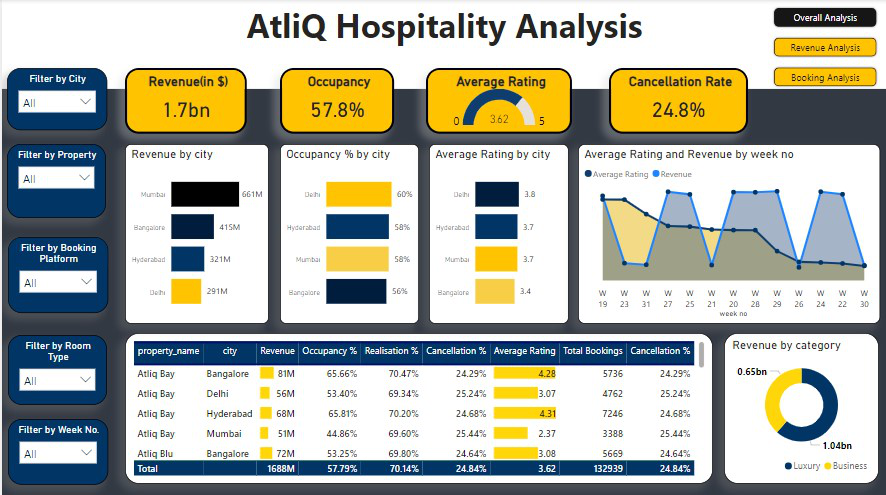

Layout of this report page (visuals, bound fields, positions):
{"tool":"powerbi","page":{"name":"Overall Analysis","canvas":[1280,720],"ordinal":0},"visuals":[{"type":"tableEx","fields":{"Values":["dim_hotels.property_name","dim_hotels.city","BaseMeasures.Revenue","BaseMeasures.Occupancy %","BaseMeasures.Realisation %","BaseMeasures.Cancellation %","BaseMeasures.Average Rating","BaseMeasures.Total Bookings","BaseMeasures.Cancellation %"]},"box":[177.8,482.9,850.1,218.3],"z":0},{"type":"donutChart","fields":{"Category":["dim_hotels.category"],"Y":["BaseMeasures.Revenue"]},"box":[1043.9,482.9,224.1,218.3],"z":1000},{"type":"textbox","box":[0,0,1279.5,130.1],"z":2000},{"type":"slicer","title":"Filter by Booking Platform","fields":{"Values":["fact_bookings.booking_platform"]},"box":[8.6,344,144.6,109.9],"z":2000,"group":"g1"},{"type":"card","title":"Revenue(in $)","fields":{"Values":["BaseMeasures.Revenue"]},"box":[177.8,99.8,176.4,95.4],"z":3000},{"type":"card","title":"Cancellation Rate","fields":{"Values":["BaseMeasures.Cancellation %"]},"box":[877.6,99.8,201,95.4],"z":4000},{"type":"slicer","title":"Filter by Room Type","fields":{"Values":["dim_rooms.room_class"]},"box":[8.2,485.9,143.2,101.3],"z":4000,"group":"g1"},{"type":"card","title":"Occupancy","fields":{"Values":["BaseMeasures.Occupancy %"]},"box":[401.9,99.8,164.8,95.4],"z":5000},{"type":"gauge","fields":{"Y":["BaseMeasures.Average Rating"]},"box":[613,99.8,211.1,95.4],"z":6000},{"type":"slicer","title":"Filter by Week No.","fields":{"Values":["dim_date.week no"]},"box":[8.6,606.6,144.6,94.6],"z":6000,"group":"g1"},{"type":"barChart","fields":{"Y":["BaseMeasures.Revenue"],"Category":["dim_hotels.city"]},"box":[177.8,209.6,208.2,260.2],"z":7000},{"type":"slicer","title":"Filter by City","fields":{"Values":["dim_hotels.city"]},"box":[7.2,99.8,144.6,90.1],"z":8000,"group":"g1"},{"type":"barChart","fields":{"Category":["dim_hotels.city"],"Y":["BaseMeasures.Occupancy %"]},"box":[401.9,209.6,201,260.2],"z":8000},{"type":"barChart","fields":{"Category":["dim_hotels.city"],"Y":["BaseMeasures.Average Rating"]},"box":[617.3,209.6,202.4,260.2],"z":9000},{"type":"slicer","title":"Filter by Property ","fields":{"Values":["dim_hotels.property_name"]},"box":[7.2,209.7,143.1,106.9],"z":10000,"group":"g1"},{"type":"areaChart","fields":{"Category":["dim_date.week no"],"Y2":["BaseMeasures.Revenue"],"Y":["BaseMeasures.Average Rating"]},"box":[832.8,209.6,436.6,260.2],"z":10000},{"type":"group","id":"g1","title":"Group 1","box":[7.2,99.8,146,601.4],"z":11000},{"type":"pageNavigator","box":[1113.3,10.1,154.7,120],"z":12000}]}

Visuals, with their boxes in screenshot pixels (x1, y1, x2, y2), scaled from the page's 1280x720 canvas onto the 886x495 screenshot:
tableEx - dim_hotels.property_name x dim_hotels.city: [x1=123, y1=332, x2=711, y2=482]
donutChart - dim_hotels.category x BaseMeasures.Revenue: [x1=723, y1=332, x2=878, y2=482]
textbox: [x1=0, y1=0, x2=885, y2=89]
"Filter by Booking Platform" slicer: [x1=6, y1=236, x2=106, y2=312]
"Revenue(in $)" card: [x1=123, y1=69, x2=245, y2=134]
"Cancellation Rate" card: [x1=607, y1=69, x2=747, y2=134]
"Filter by Room Type" slicer: [x1=6, y1=334, x2=105, y2=404]
"Occupancy" card: [x1=278, y1=69, x2=392, y2=134]
gauge - BaseMeasures.Average Rating: [x1=424, y1=69, x2=570, y2=134]
"Filter by Week No." slicer: [x1=6, y1=417, x2=106, y2=482]
barChart - BaseMeasures.Revenue x dim_hotels.city: [x1=123, y1=144, x2=267, y2=323]
"Filter by City" slicer: [x1=5, y1=69, x2=105, y2=131]
barChart - dim_hotels.city x BaseMeasures.Occupancy %: [x1=278, y1=144, x2=417, y2=323]
barChart - dim_hotels.city x BaseMeasures.Average Rating: [x1=427, y1=144, x2=567, y2=323]
"Filter by Property " slicer: [x1=5, y1=144, x2=104, y2=218]
areaChart - dim_date.week no x BaseMeasures.Revenue: [x1=576, y1=144, x2=879, y2=323]
"Group 1" group: [x1=5, y1=69, x2=106, y2=482]
pageNavigator: [x1=771, y1=7, x2=878, y2=89]
